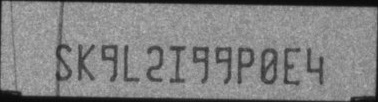0: (259, 46, 278, 85)
2: (146, 42, 164, 82)
4: (305, 47, 324, 86)
9: (213, 43, 232, 83), (192, 43, 209, 84), (101, 42, 118, 82)
E: (283, 45, 301, 86)
I: (169, 43, 186, 84)
K: (76, 42, 96, 81)
L: (123, 45, 141, 82)
P: (236, 47, 255, 84)
S: (54, 43, 71, 81)
